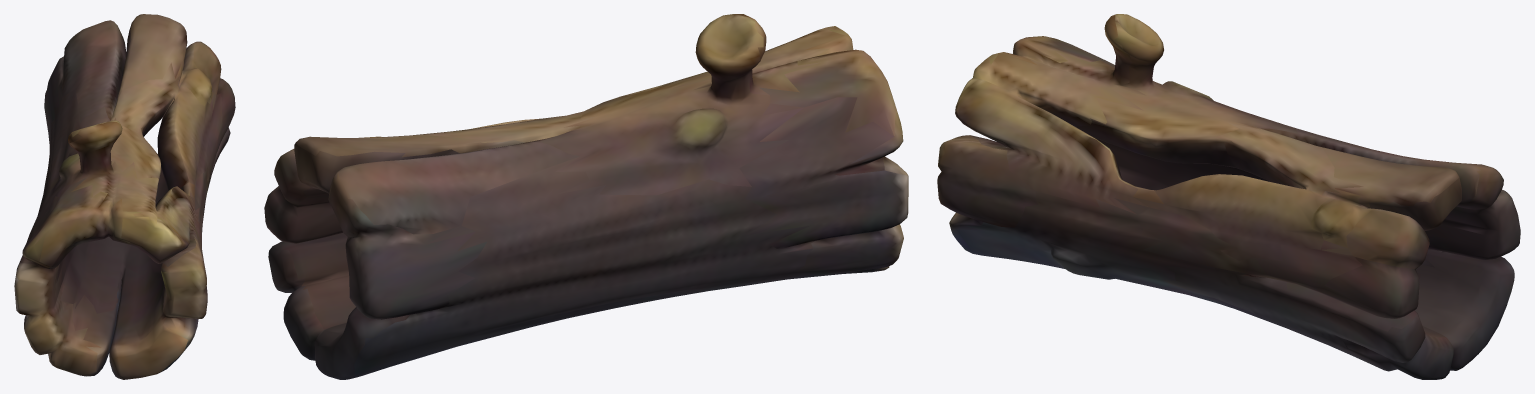
File: f09_tronco_oco_caido.glb
3 renders of one model, left to right at view 1: azimuth 30°, elevation 25°; view 2: azimuth 150°, elevation 25°; view 3: azimuth 270°, elevation 25°, orthographic. The views are drawn at different scales.
Parts seen in each view (by area): view 1: f09_tronco_oco_caido; view 2: f09_tronco_oco_caido; view 3: f09_tronco_oco_caido.
Part boxes in pixels (left/top/right/bottom): f09_tronco_oco_caido: left=14, top=14, right=235, bottom=379; f09_tronco_oco_caido: left=264, top=14, right=908, bottom=379; f09_tronco_oco_caido: left=937, top=14, right=1520, bottom=379.
Size of the model in its own units: 0.7252 by 0.4136 by 0.8745.
1 material, 1 textured.
